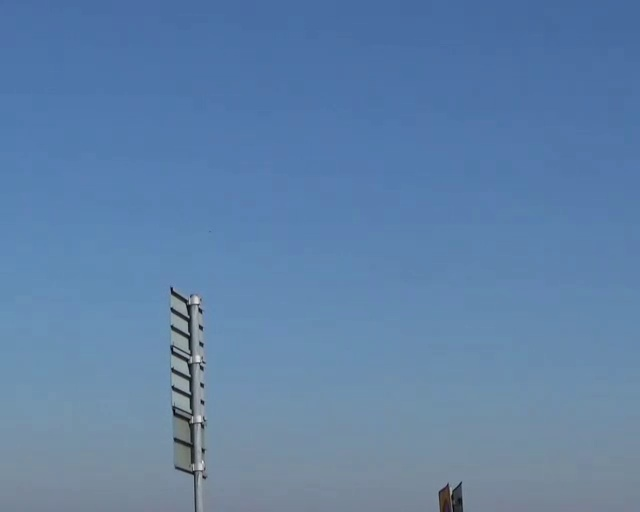BIRD: (205, 224, 215, 235)
